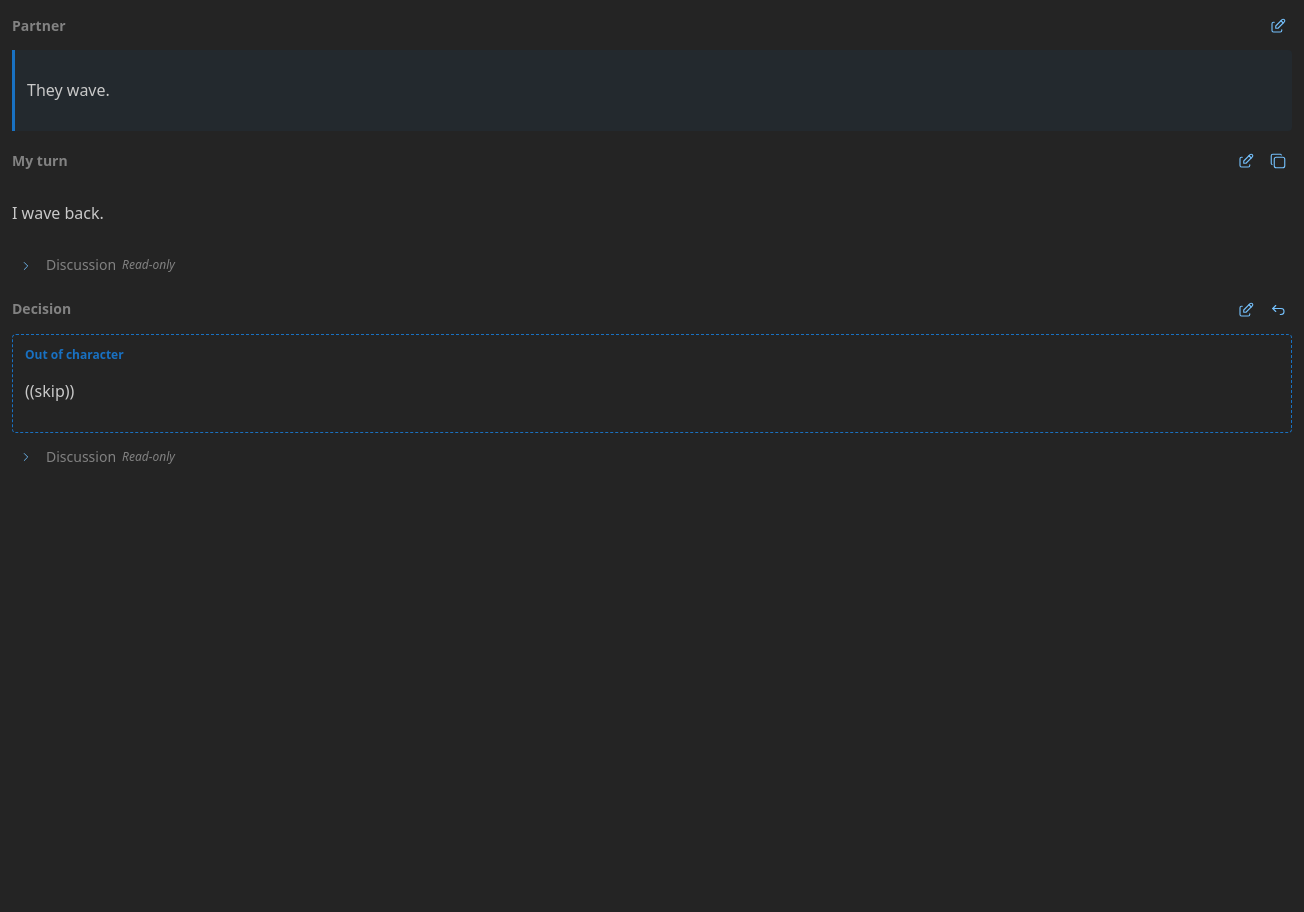
Test case: StreamRecord — expanding a discussion (D11, US-040.AC-1) › pressing "Show discussion" on the turn entry issues exactly one GET …/discussion and shows You, Tool, Assistant in order, "Discussion (3)" and "Hide discussion"
The image size is (1304, 912).
Click the button named "Show discussion" below "I wave back." at (26, 266), box [12,252,40,280]
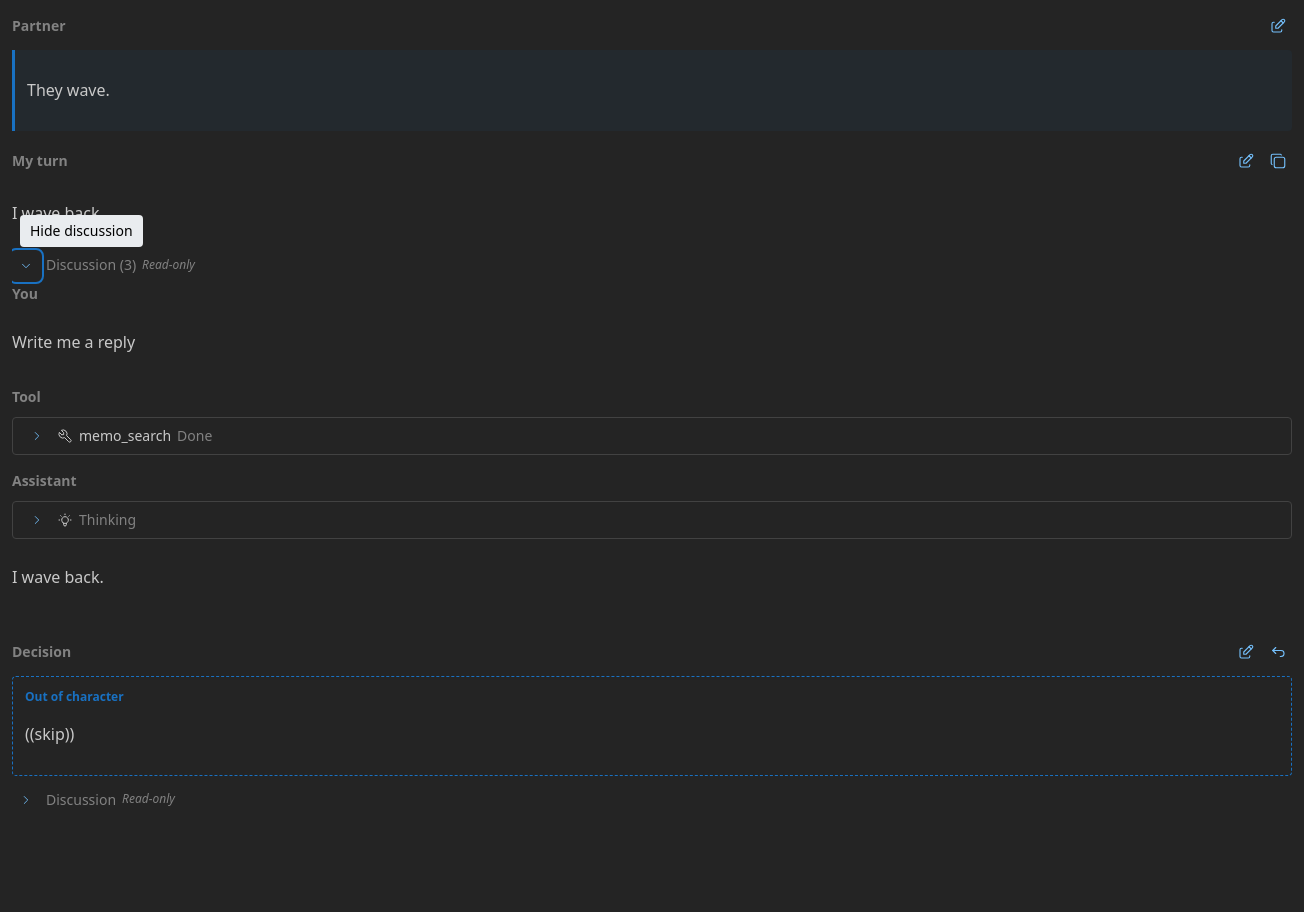
Expected: the list named "Discussion messages" is shown, [12,284,1292,622]
Expected: the text "You" is shown, [12,284,38,304]
Expected: the text "Tool" is shown, [12,387,41,407]
